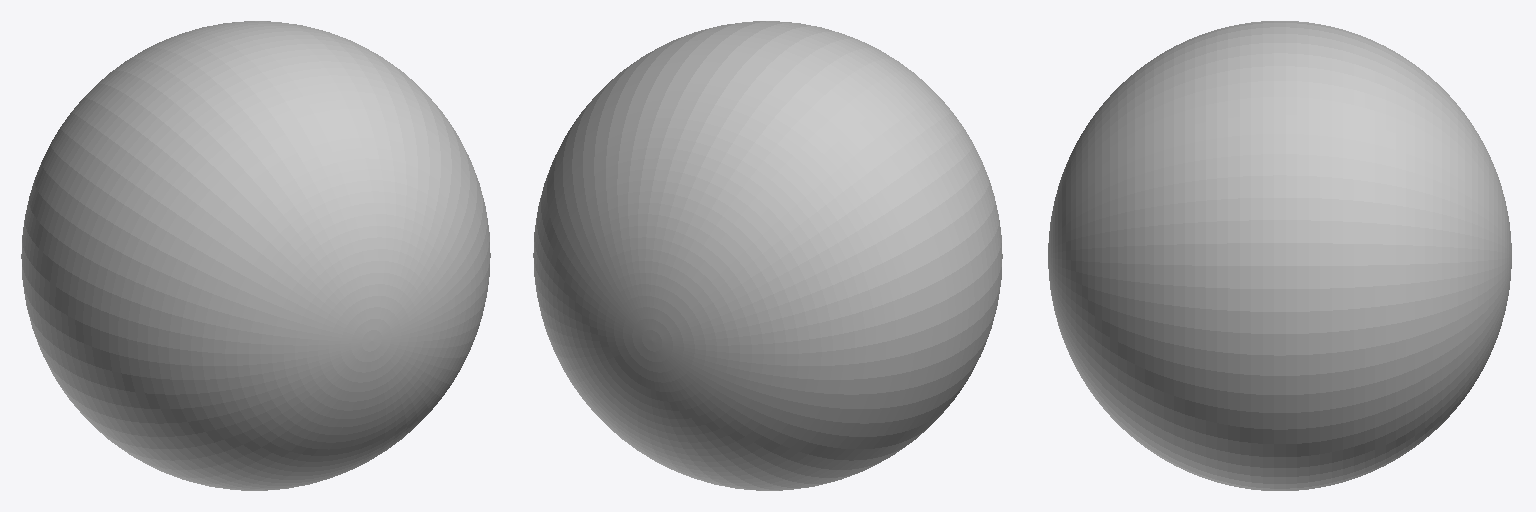
Rendered from earth.obj.
3 renders of one model, left to right at view 1: azimuth 30°, elevation 25°; view 2: azimuth 150°, elevation 25°; view 3: azimuth 270°, elevation 25°, orthographic.
Visible parts, largest first — view 1: Mesh.001; view 2: Mesh.001; view 3: Mesh.001.
Part boxes in pixels (bbox=[...]): Mesh.001: bbox=[21, 21, 490, 490]; Mesh.001: bbox=[533, 21, 1002, 490]; Mesh.001: bbox=[1048, 21, 1511, 490].
Size of the model in its own units: 1306094 by 1306094 by 1286400.